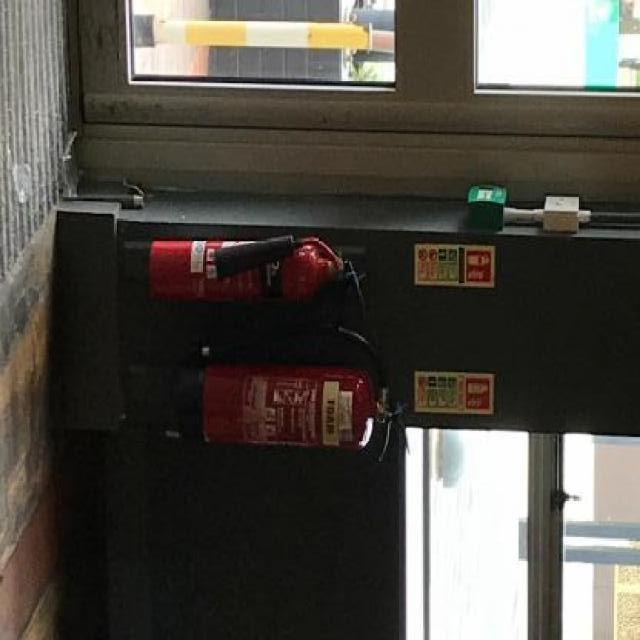fire extinguisher: (171, 324, 409, 461), (149, 233, 371, 319)
